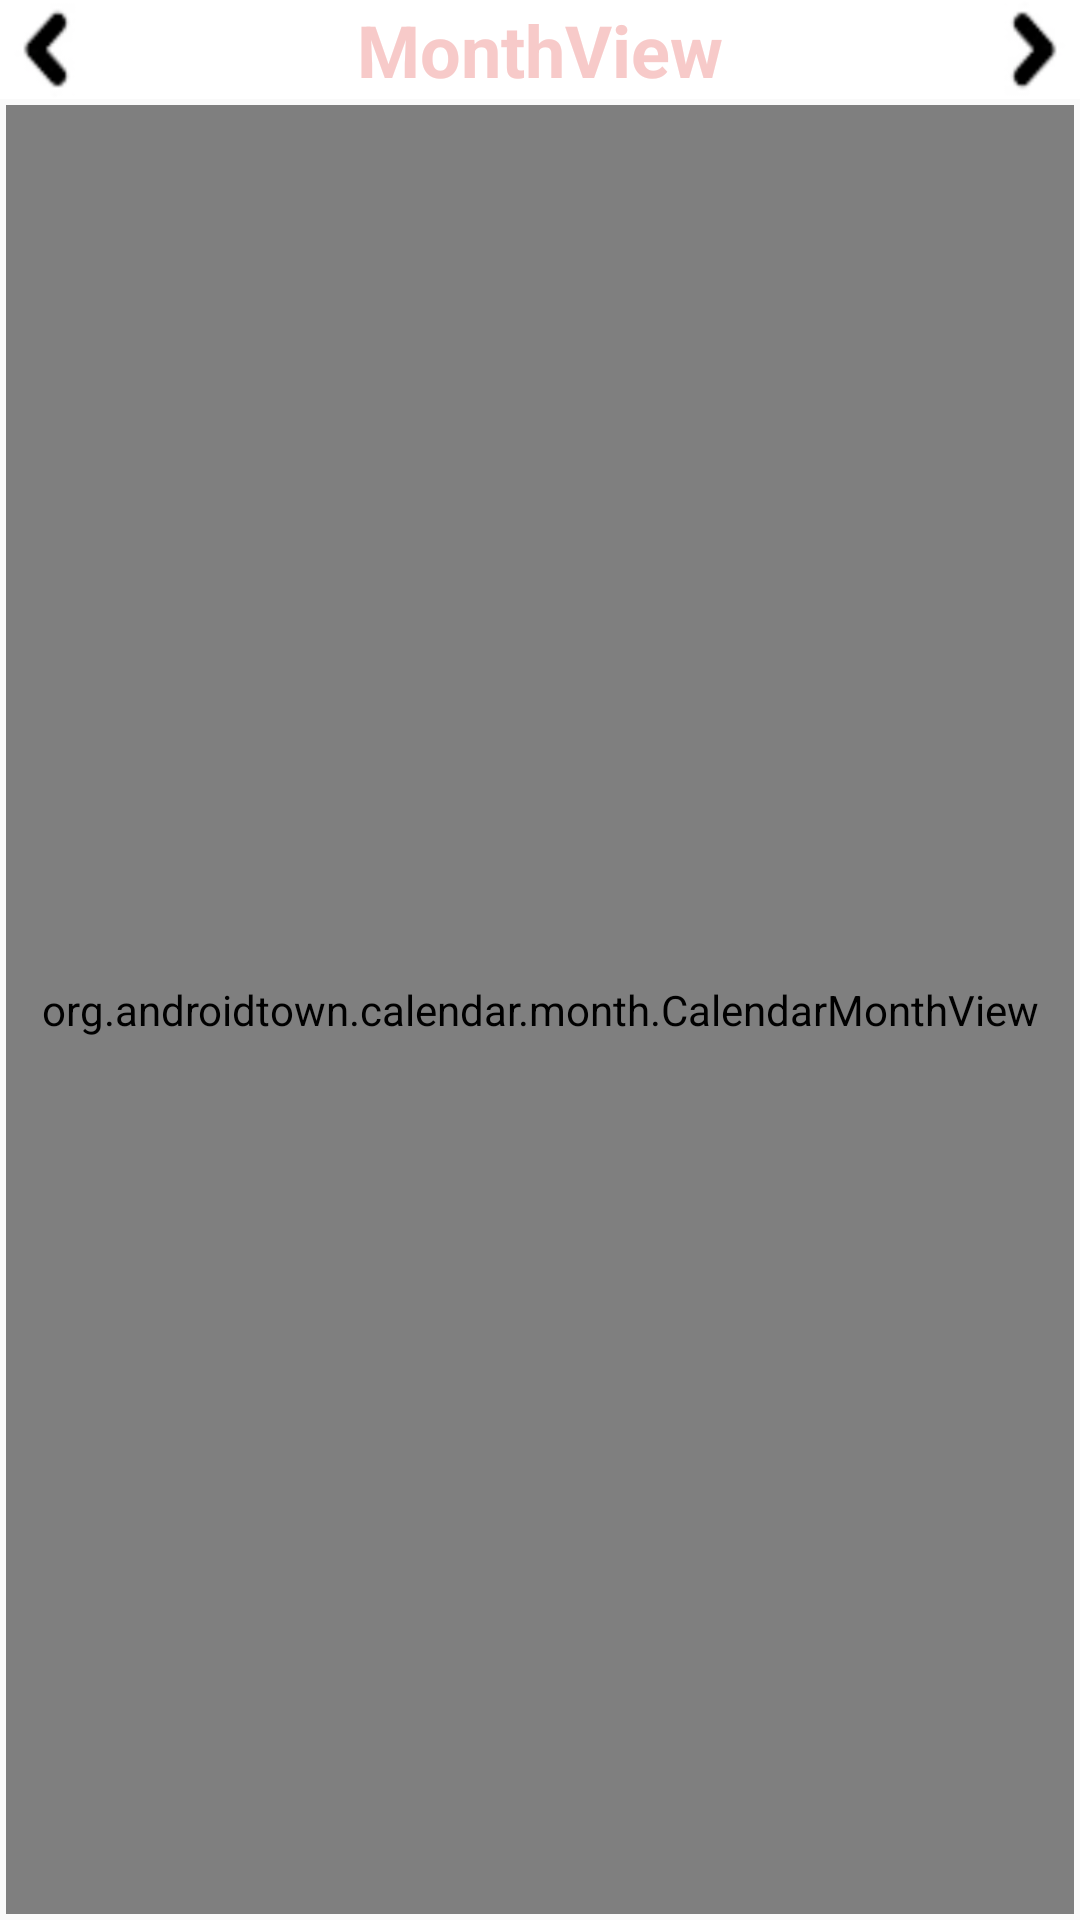

Icon click points for this 1080px×1920px phone screenshot, format (x=x, y=y):
backward: (x=46, y=49)
forward: (x=1034, y=50)
